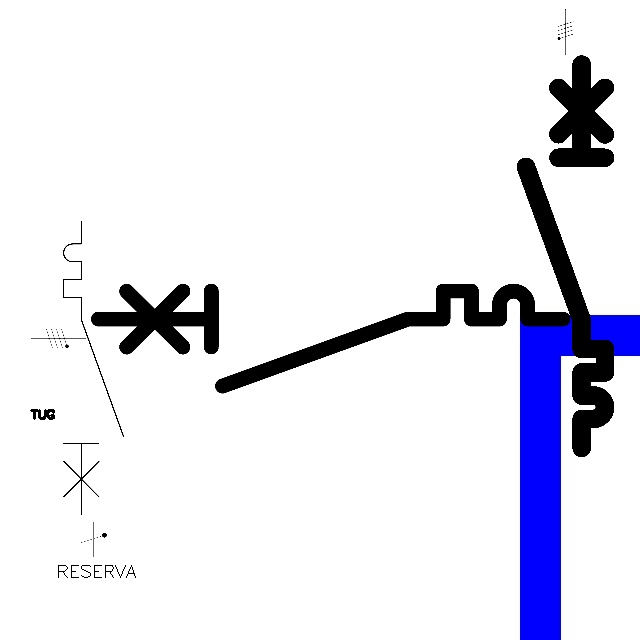interruptor_termomagnetico: (86, 279, 574, 398), (516, 54, 615, 458), (56, 214, 131, 522)
